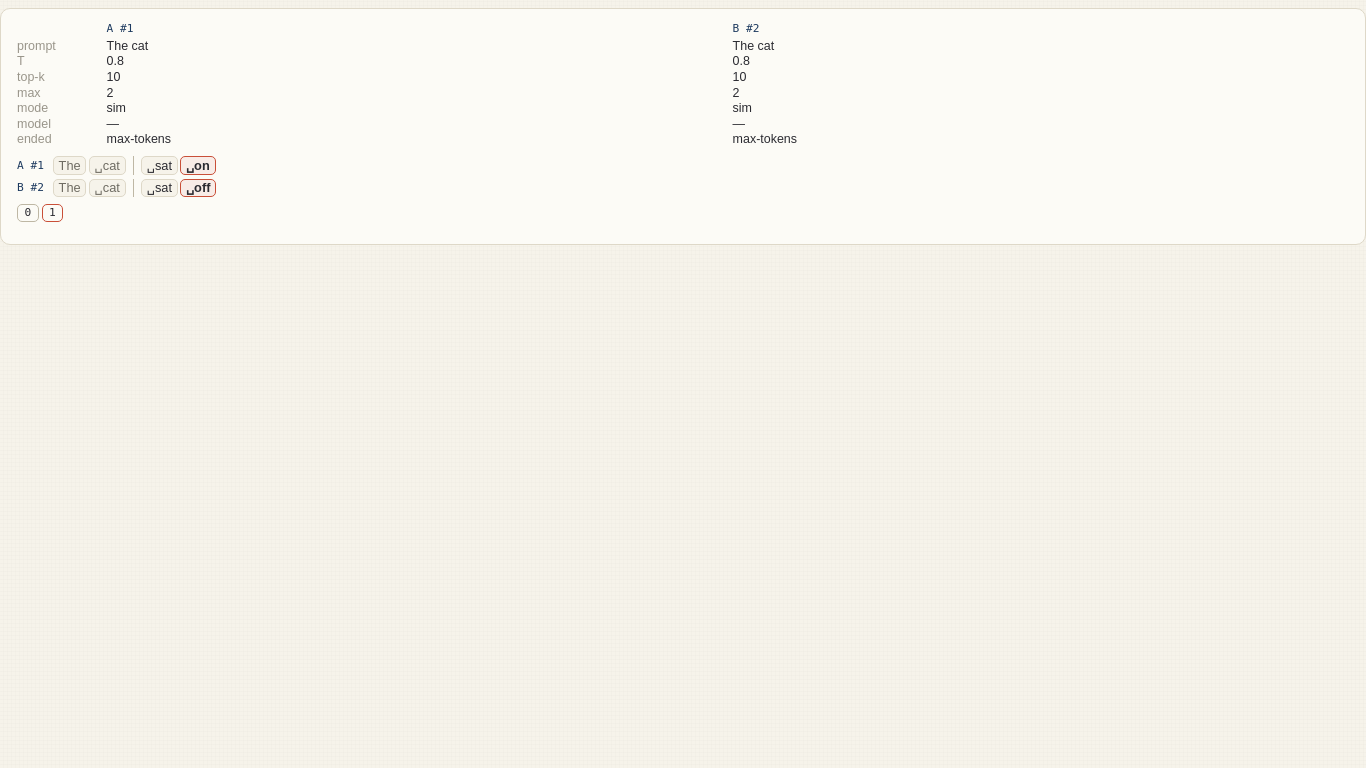
Test: distributions toggle switches to the combined token-aligned view and persists across cycles
Click the button with test id "cmp-tick" showing "1" at x=52, y=213, box [42,204,63,222]
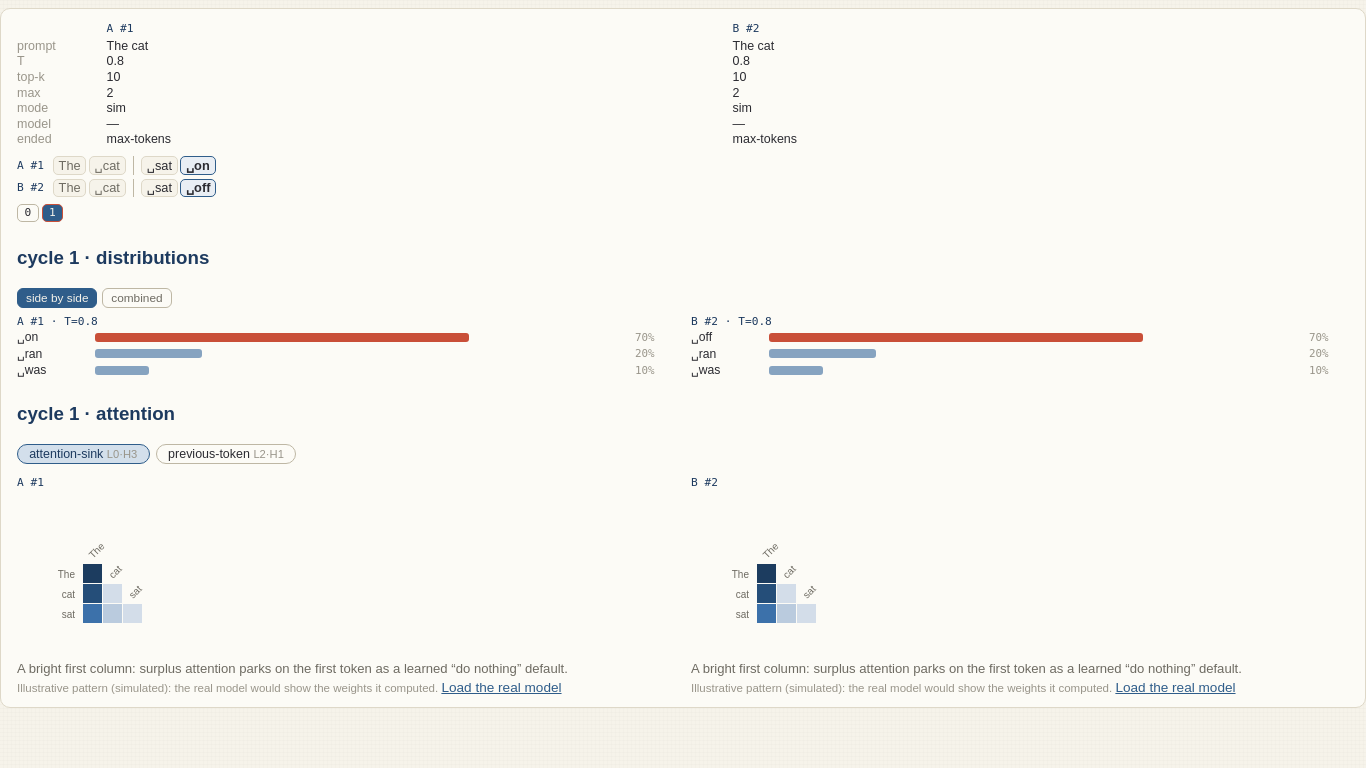
Click the button with test id "dist-mode-combined" at x=137, y=298, box [102,288,172,308]
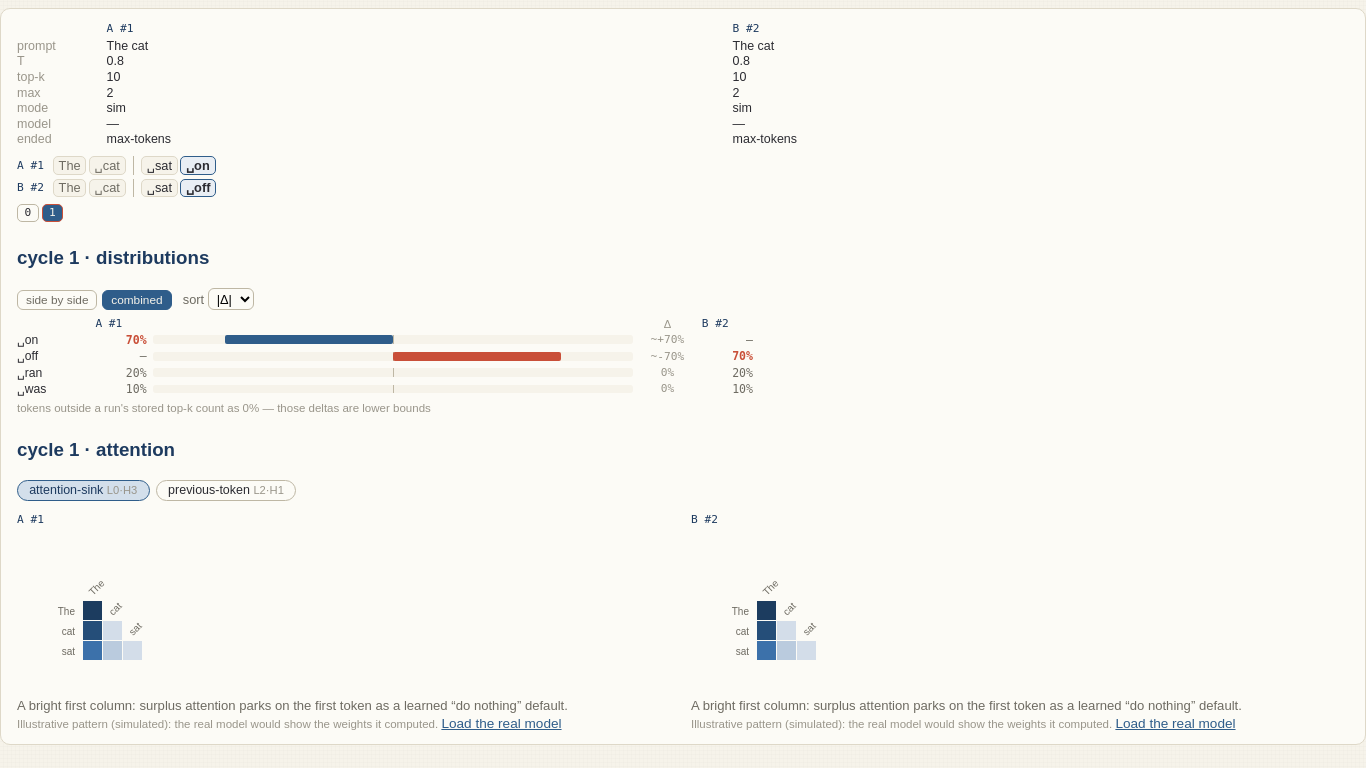
Expected: the text with test id "cmp-approx-note" shows "lower bounds", [17,402,431,414]
Expected: no elements with test id "cmp-dist-side" are shown
// persists across cycle clicks
Click the button with test id "cmp-tick" showing "0" at x=28, y=213, box [17,204,38,222]
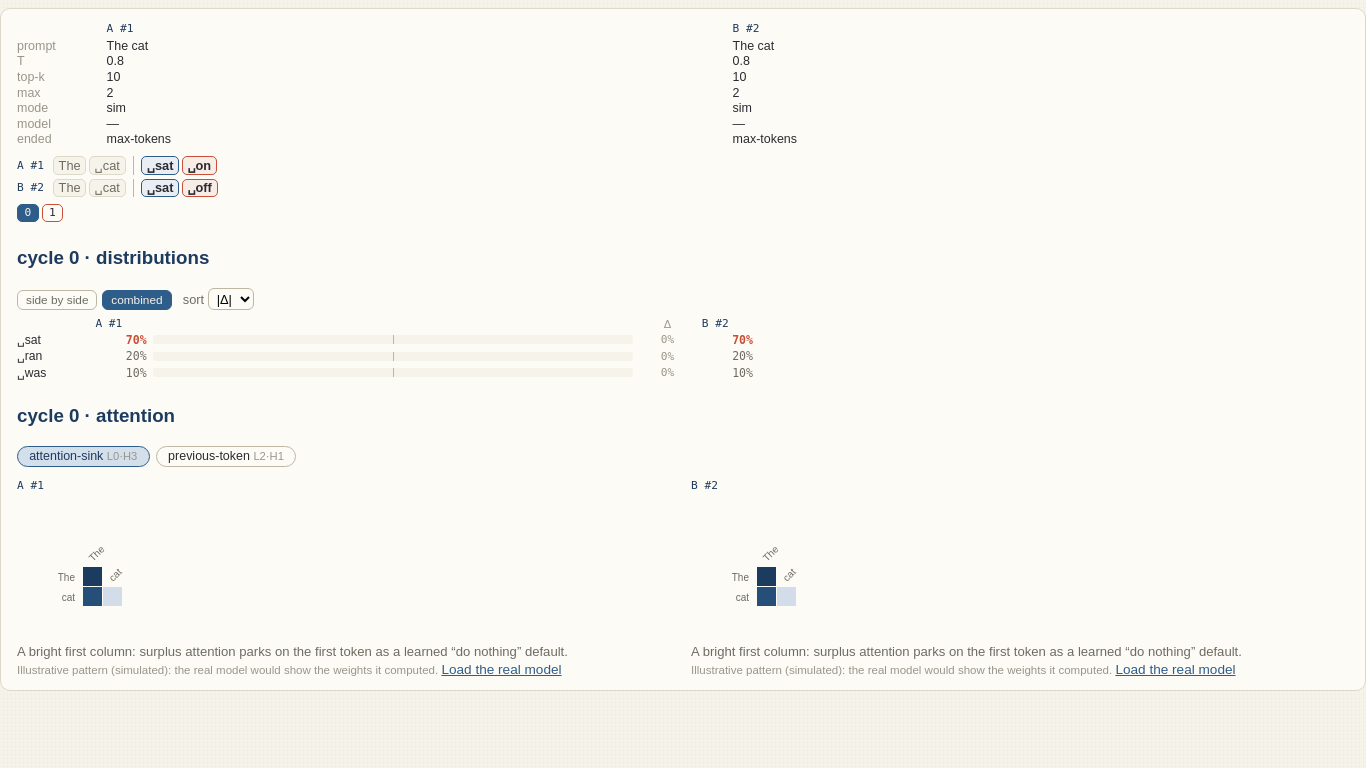
Expected: the element with test id "cmp-delta-row" showing "␣sat 70% 0% 70%" is shown, [17,333,753,347]
